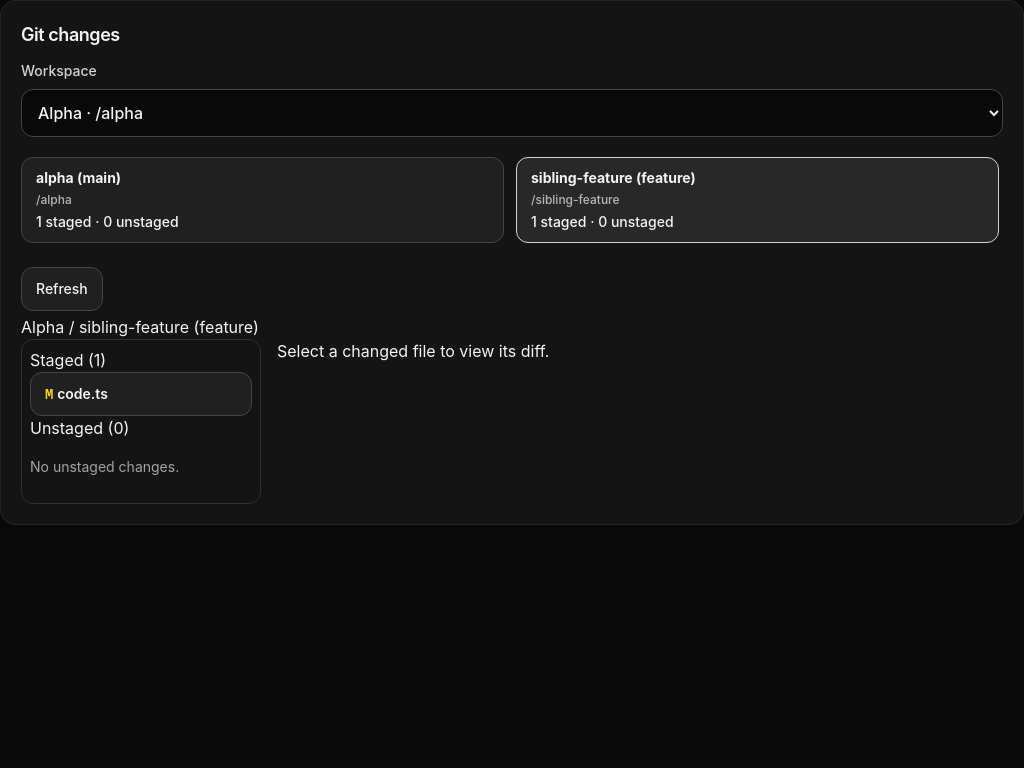
Test: groups sibling worktrees by workspace, shows summaries, and clears diffs when switching
Expected: the dropdown labelled "Workspace" shows "Alpha · /alpha", [21,89,1003,137]
Expected: the button that starts with "sibling-feature (feature)" is shown, [516,157,999,243]
Click the button "M code.ts".
click(141, 394)  # box [30,372,252,416]
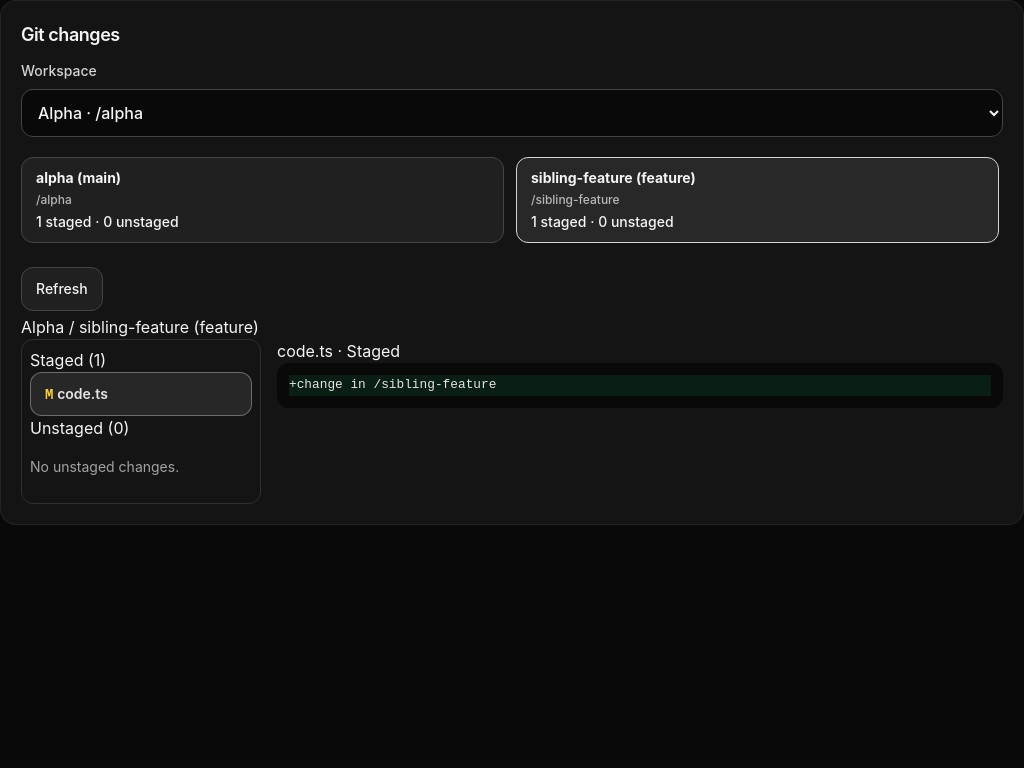
Result: the text "+change in /sibling-feature" is shown at [289,375,991,396]
Click the button "alpha (main) /alpha 1 staged · 0 unstaged".
click(79, 178)  # box [21,157,504,243]
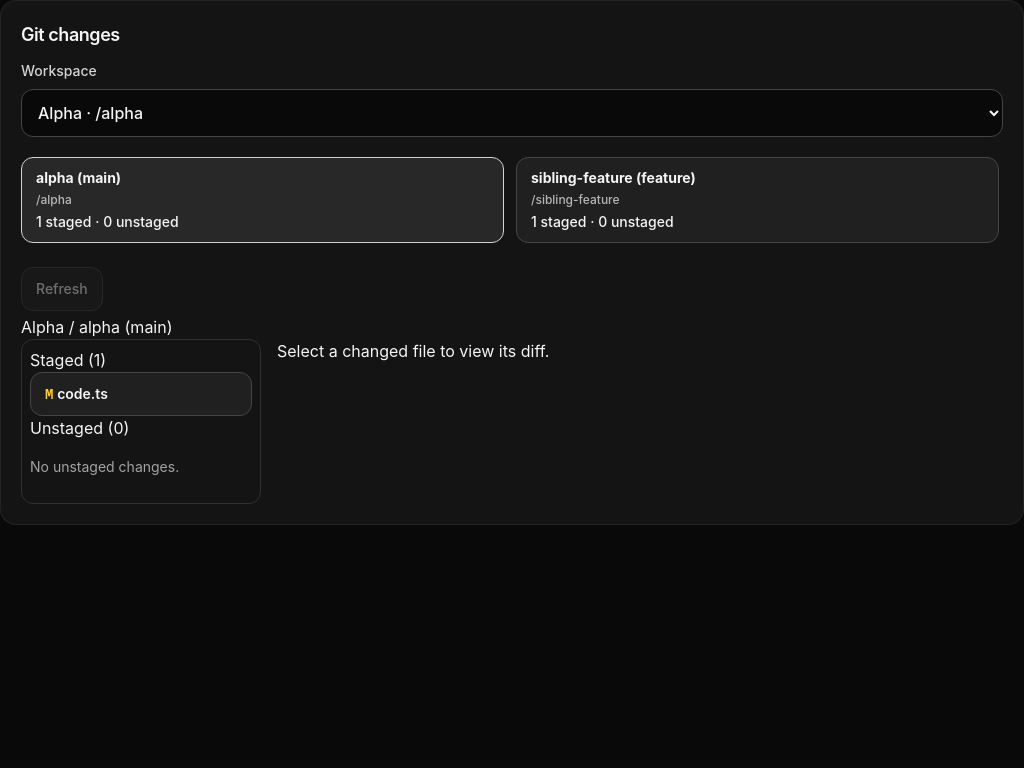
Result: the heading "Alpha / alpha (main)" is shown at [21,317,172,337]
Select "Beta · /beta" in the dropdown labelled "Workspace" at [512, 113], box [21,89,1003,137]
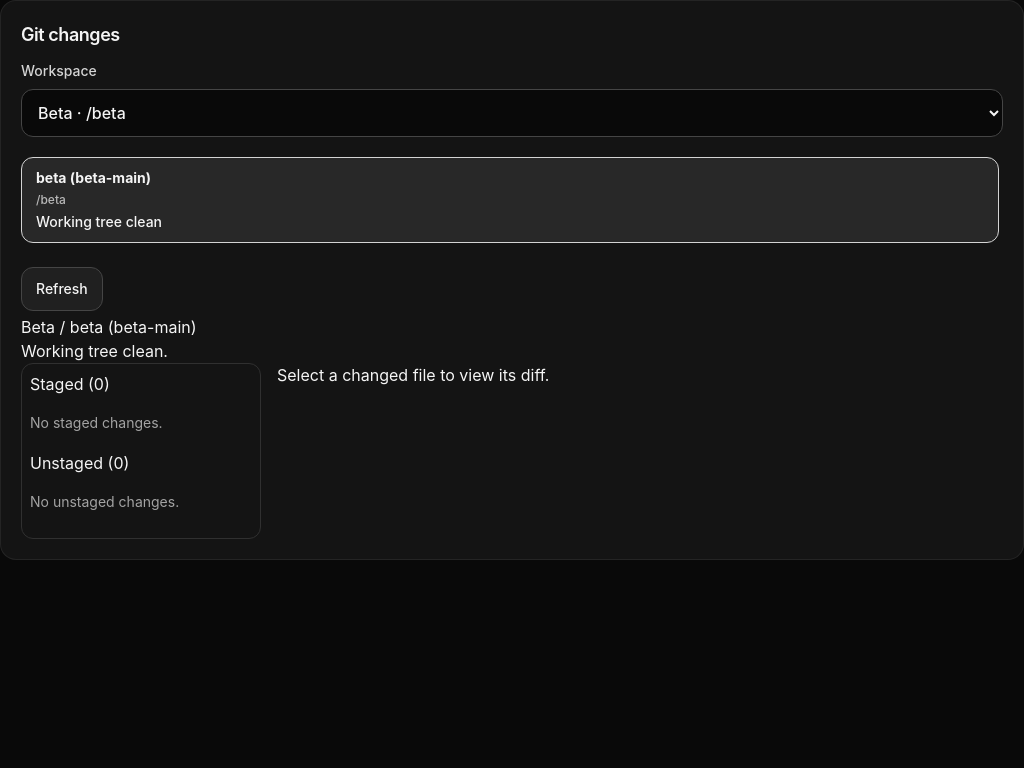
Result: the button "beta (beta-main) /beta Working tree clean" is shown at [21,157,999,243]
Result: the heading "Beta / beta (beta-main)" is shown at [21,317,197,337]
